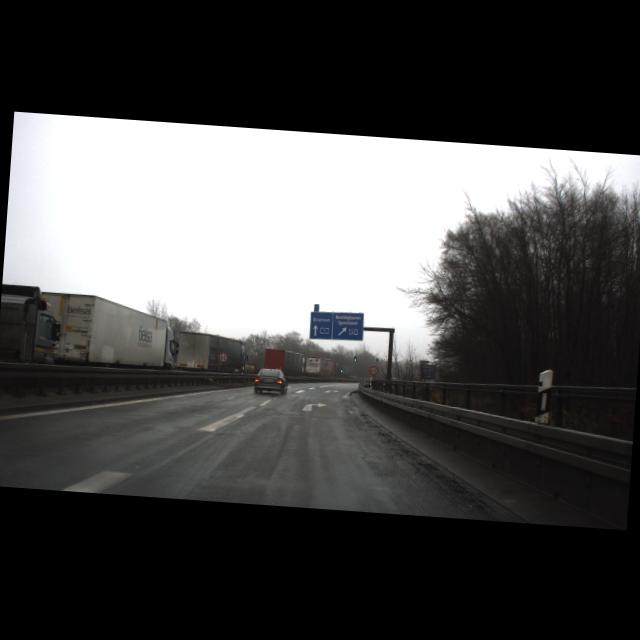prohibitory: (217, 350, 230, 363), (368, 365, 378, 375)
